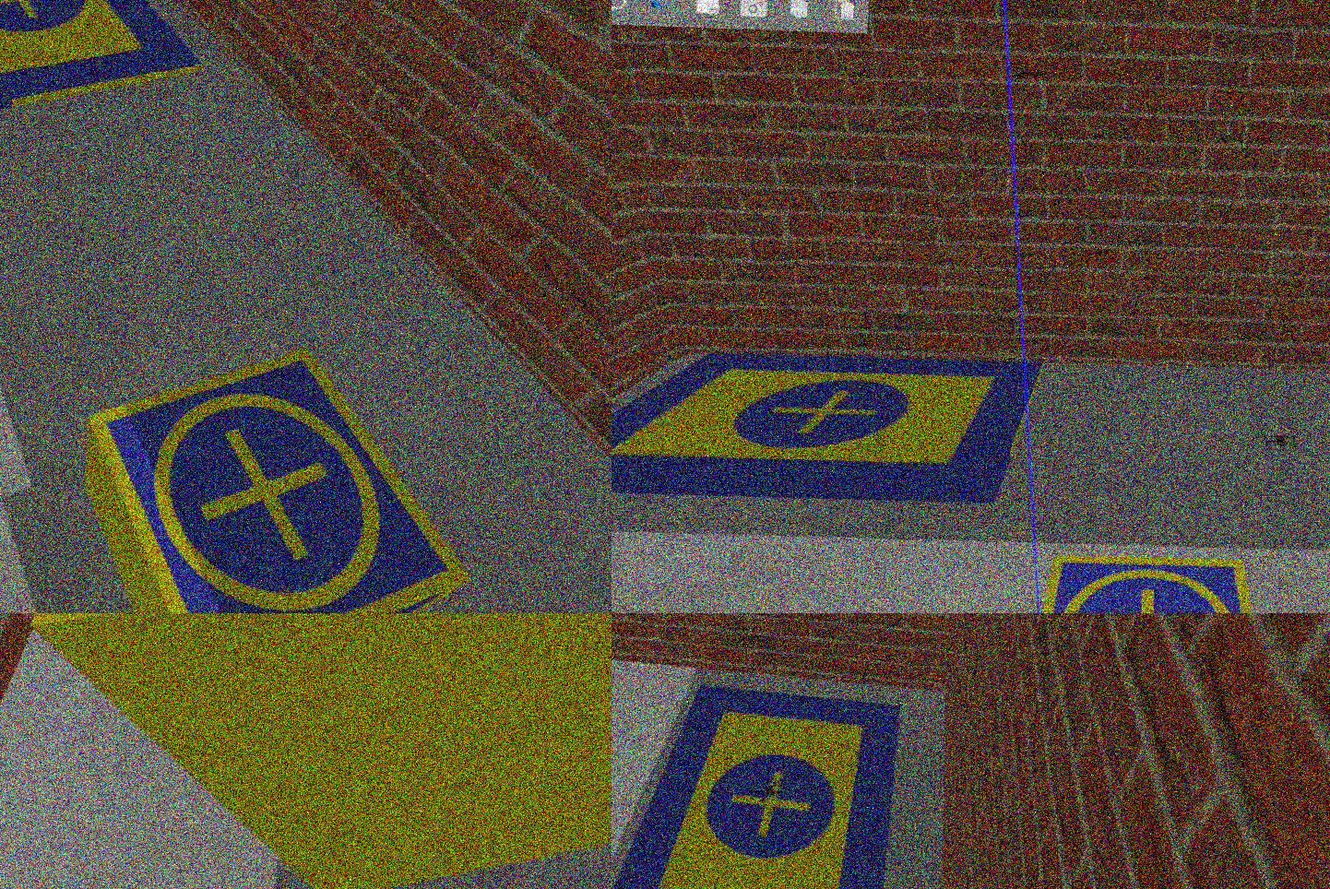large_base: (612, 341, 1041, 508), (612, 680, 898, 889), (1, 1, 208, 126)
small_base: (80, 336, 476, 613), (1023, 550, 1284, 613)
